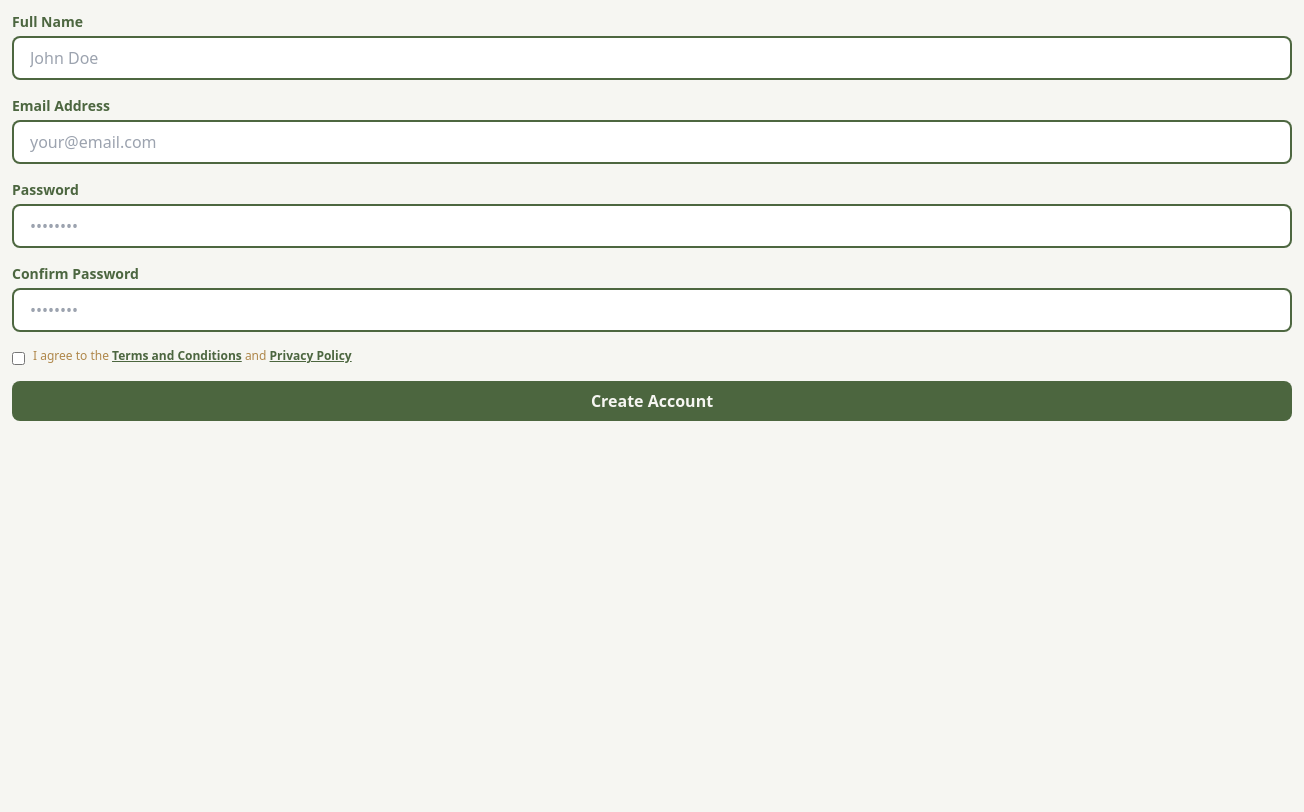
RegisterForm › should show match status for confirm password
Type "Test123!" into the password field labelled "Password".
click(652, 226); type("Test123!")  # box [12,204,1292,248]
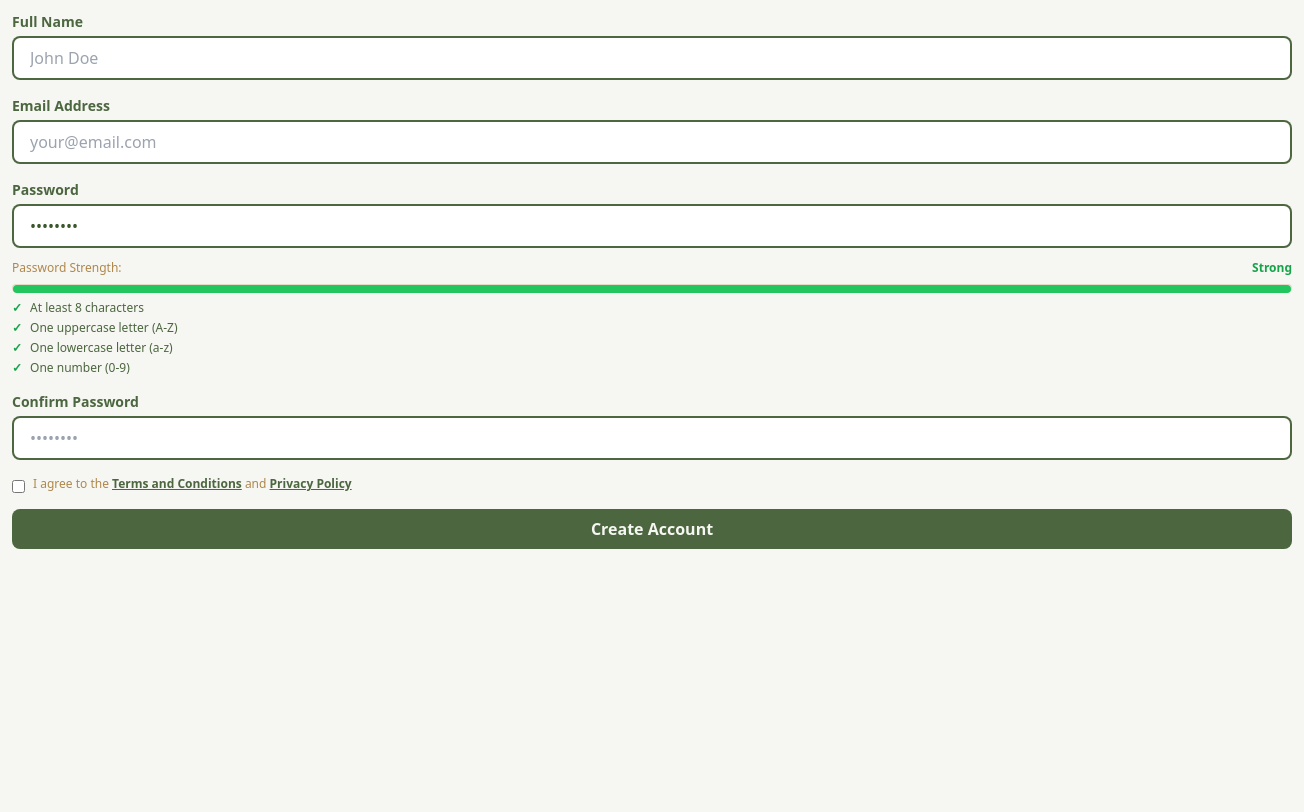
Type "Test123!" into the password field labelled "Confirm Password".
click(652, 438); type("Test123!")  # box [12,416,1292,460]
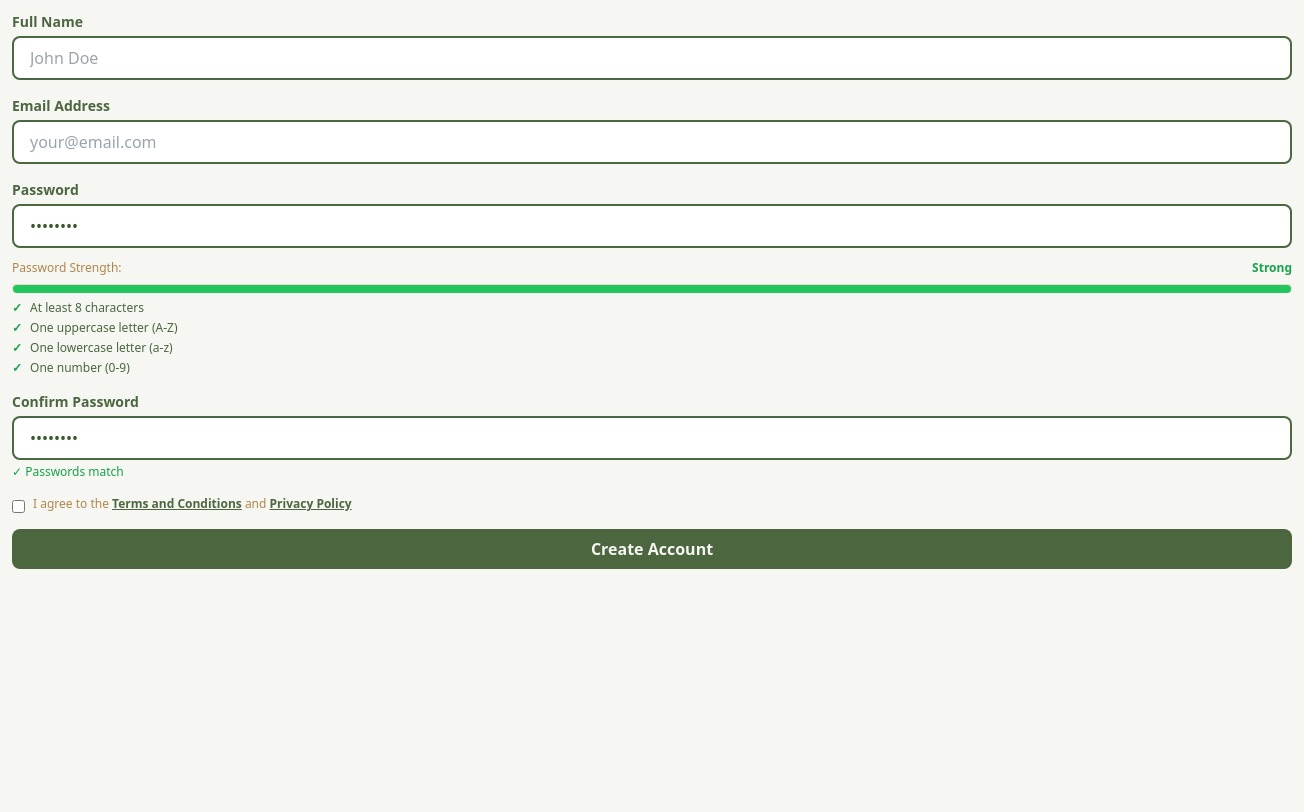
Now the text "✓ Passwords match" is shown, box [12,463,124,480]
